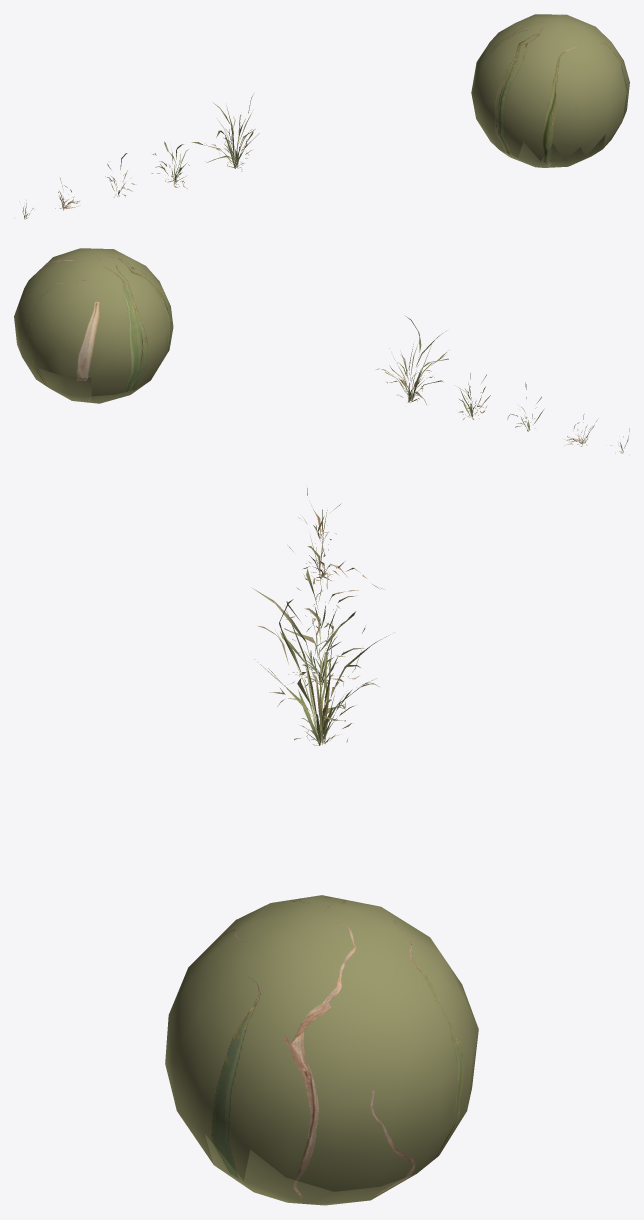
Rendered from field_grass_b_lod2.glb.
3 views of the same model, one above another, from view 1: azimuth 30°, elevation 25°; view 2: azimuth 150°, elevation 25°; view 3: azimuth 270°, elevation 25° (orthographic). The views are drawn at different scales.
Parts seen in each view (by area): view 1: blades_lod2, stem_lod2; view 2: blades_lod2, stem_lod2; view 3: blades_lod2, stem_lod2.
Boxes of the visible parts, left/top/right/bottom form: blades_lod2: left=22, top=14, right=629, bottom=219; stem_lod2: left=500, top=124, right=620, bottom=167; blades_lod2: left=14, top=248, right=629, bottom=453; stem_lod2: left=38, top=368, right=149, bottom=403; blades_lod2: left=165, top=488, right=478, bottom=1191; stem_lod2: left=205, top=1134, right=415, bottom=1205.
Size of the model in its own units: 3.19 by 0.7526 by 0.7171.
Materials: 1 (1 with a texture image).
